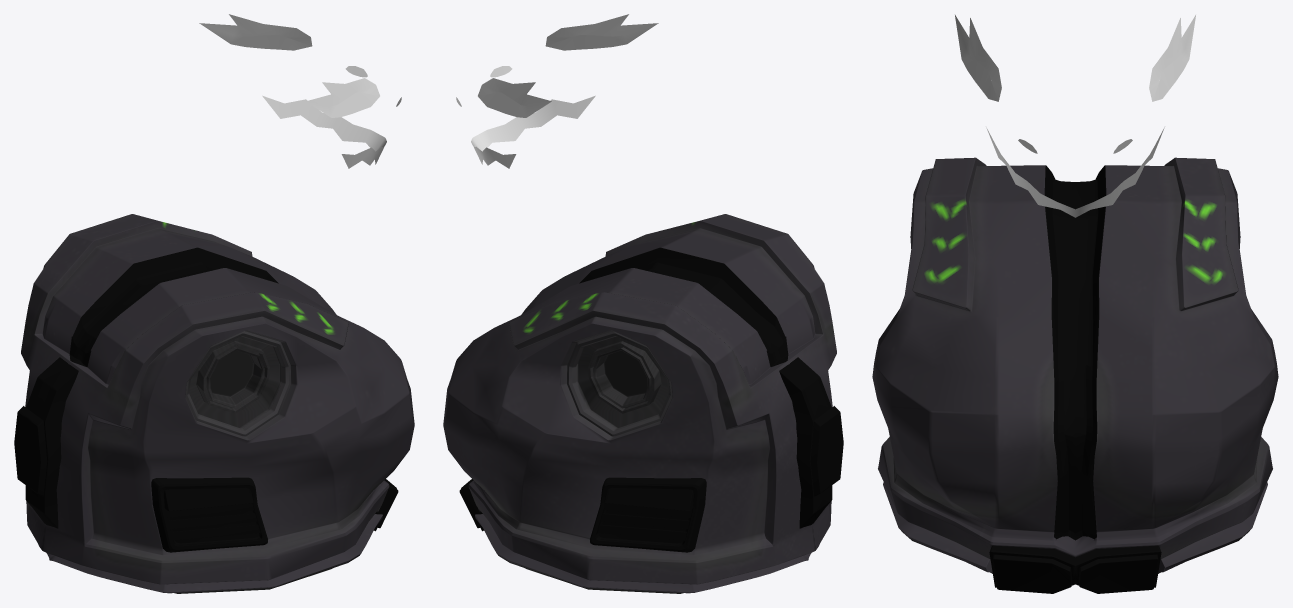
Rendered from AS_DiagF_MOuthTH.fbx.
3 renders of one model, left to right at view 1: azimuth 30°, elevation 25°; view 2: azimuth 150°, elevation 25°; view 3: azimuth 270°, elevation 25°, orthographic. The views are drawn at different scales.
Parts seen in each view (by area): view 1: Chest_armor, Face; view 2: Chest_armor, Face; view 3: Chest_armor, Face.
Part boxes in pixels (box(x1,y1,x2,y2)): Chest_armor: box(14, 214, 414, 593); Face: box(199, 14, 401, 168); Chest_armor: box(443, 214, 843, 593); Face: box(456, 14, 658, 168); Chest_armor: box(872, 157, 1278, 593); Face: box(955, 15, 1195, 217).
Bounding box in the file's own units: 30.77 × 26.77 × 38.9.
